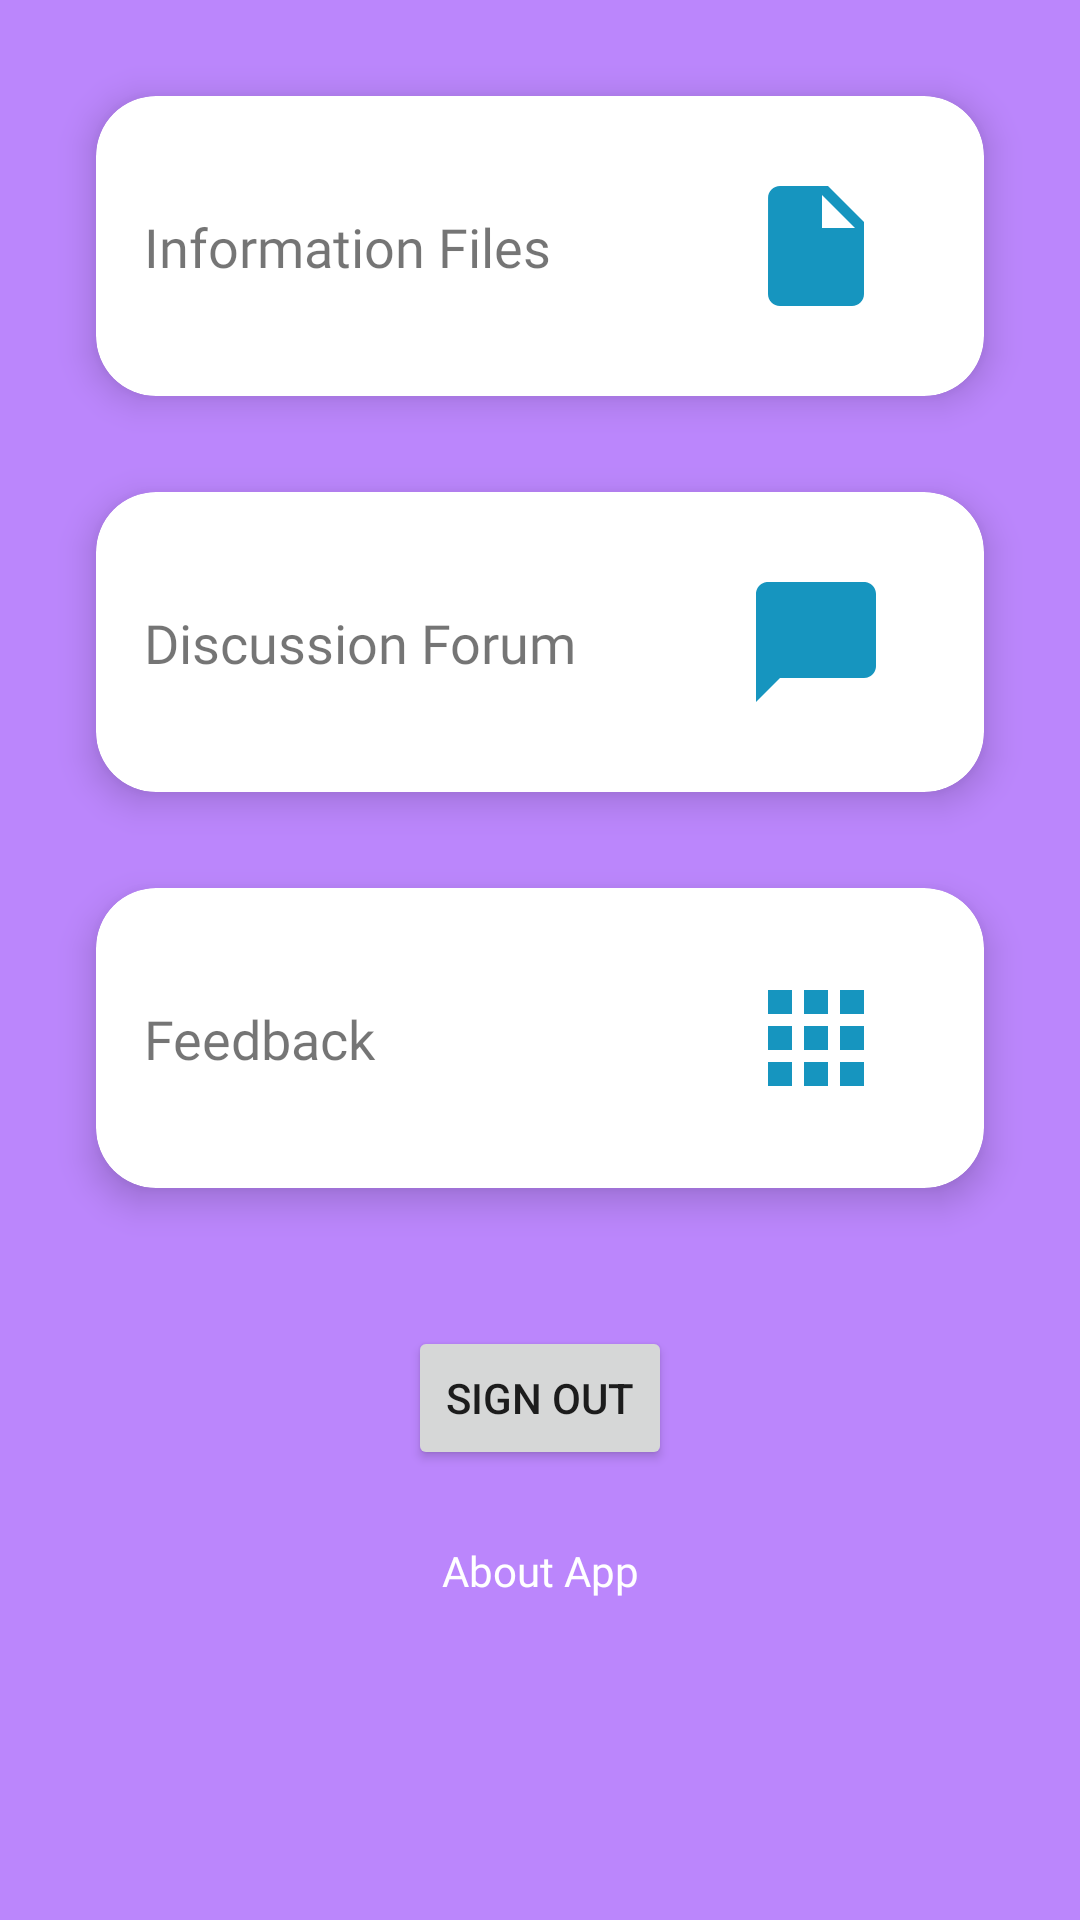

Named icons in this screenshot (1080*1920) and their bounding boxes, [left=x1, top=y1, right=x2, bottom=y2]:
apps: [left=768, top=990, right=864, bottom=1086]
insert drive file: [left=768, top=186, right=864, bottom=306]
